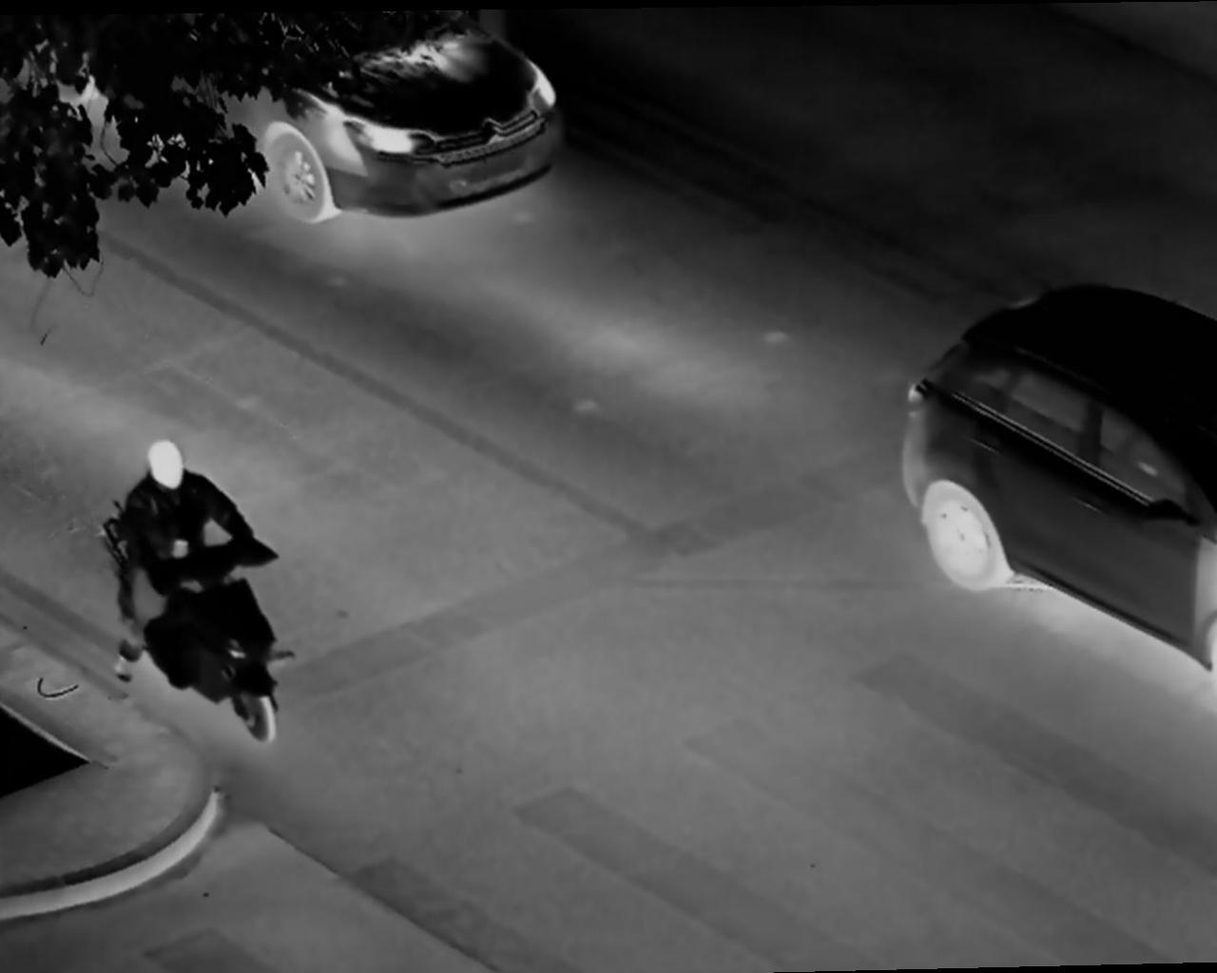person: (106, 436, 277, 698)
